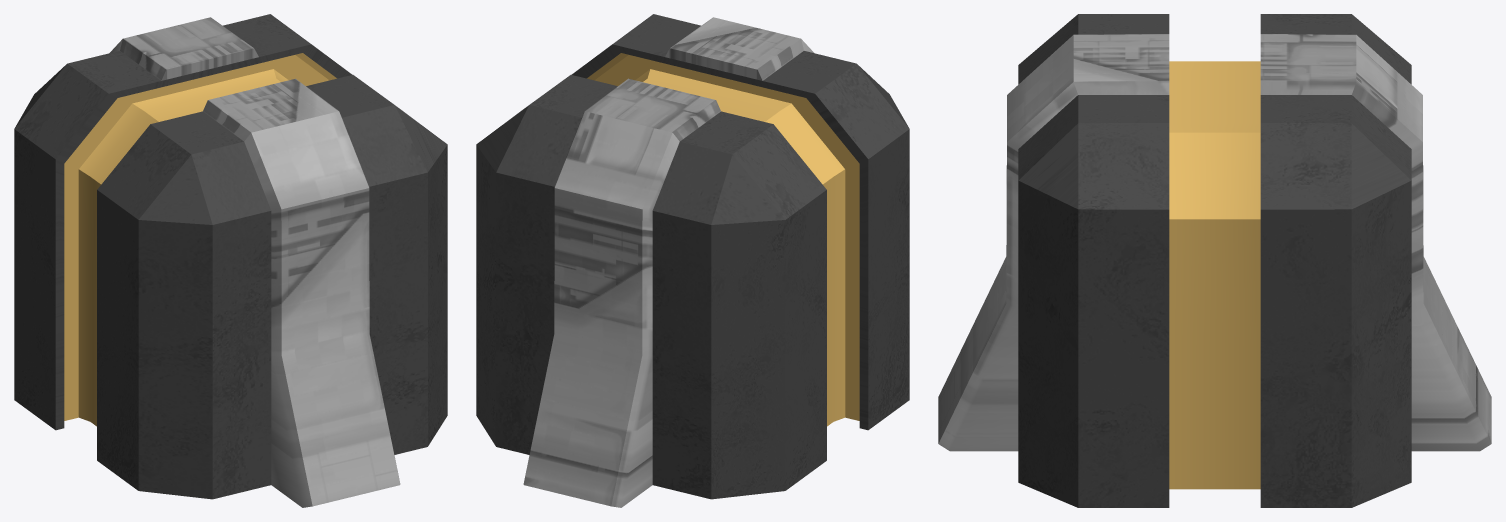
The model's file is NB_simple_building_2.fbx.
3 renders of one model, left to right at view 1: azimuth 30°, elevation 25°; view 2: azimuth 150°, elevation 25°; view 3: azimuth 270°, elevation 25°, orthographic. The views are drawn at different scales.
Visible parts, largest first — view 1: NB_simple_building_2; view 2: NB_simple_building_2; view 3: NB_simple_building_2.
Boxes of the visible parts, x1,y1,x2,y2 form: NB_simple_building_2: [14, 14, 447, 507]; NB_simple_building_2: [476, 14, 909, 507]; NB_simple_building_2: [938, 14, 1491, 507].
Size of the model in its own units: 250 by 258 by 352.
